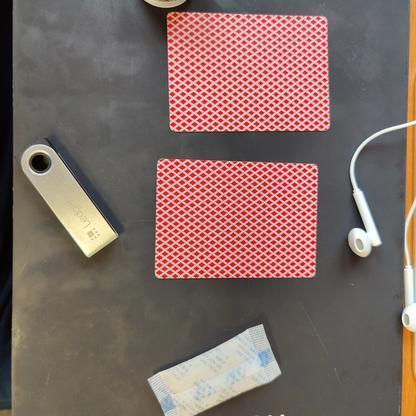card: (142, 150, 327, 288), (153, 6, 343, 140)
